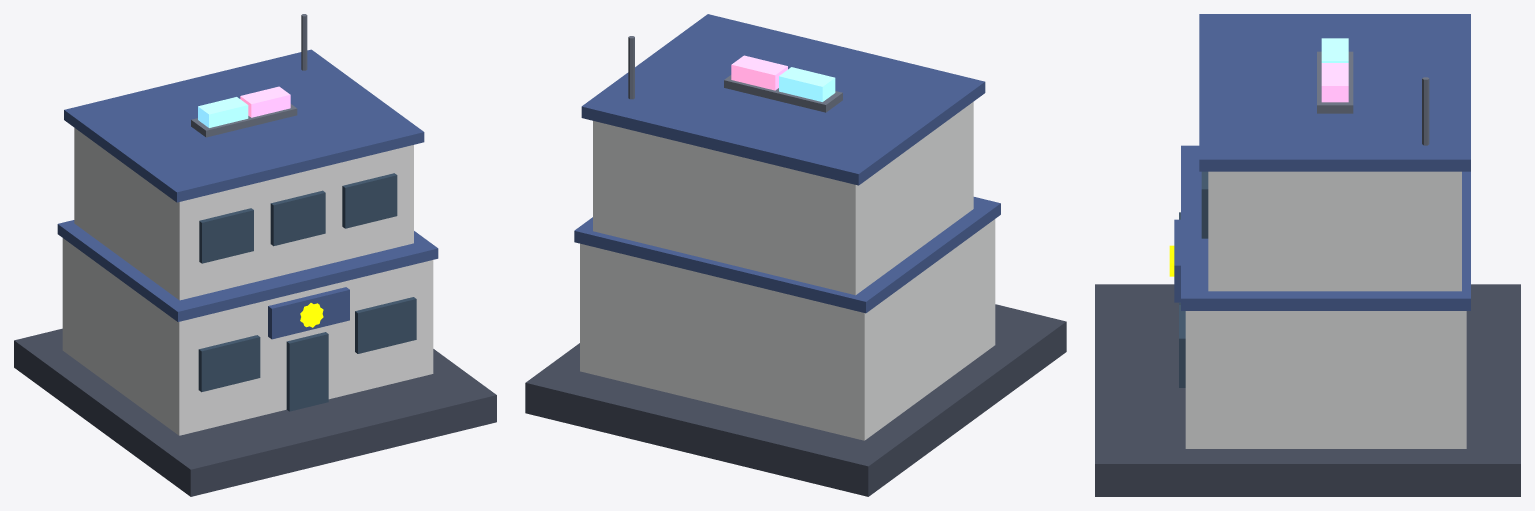
The model's file is police_station.glb.
The picture shows the model from 3 angles, left to right: view 1: azimuth 30°, elevation 25°; view 2: azimuth 150°, elevation 25°; view 3: azimuth 270°, elevation 25°; orthographic projection. The views are drawn at different scales.
Visible parts, largest first — view 1: GroundFloor, plinth, RoofTrim, UpperFloor, FloorTrim, Door, GroundWindow_-0.24, GroundWindow_0.24, UpperWindow_0.0, UpperWindow_0.22, BadgeSign, UpperWindow_-0.22 (+3 smaller); view 2: GroundFloor, UpperFloor, RoofTrim, plinth, FloorTrim, Beacon, BeaconRed, LightBarBase; view 3: plinth, RoofTrim, GroundFloor, UpperFloor, FloorTrim, BeaconRed, LightBarBase, Beacon, BadgeSign, GroundWindow_0.24, Antenna, UpperWindow_0.22.
Part boxes in pixels (<box>): GroundFloor: <box>62,238,433,435</box>; plinth: <box>14,328,496,496</box>; RoofTrim: <box>64,49,424,202</box>; UpperFloor: <box>74,128,413,300</box>; FloorTrim: <box>57,220,438,321</box>; Door: <box>286,332,328,411</box>; GroundWindow_-0.24: <box>198,335,260,392</box>; GroundWindow_0.24: <box>355,297,416,353</box>; UpperWindow_0.0: <box>270,190,325,246</box>; UpperWindow_0.22: <box>342,173,397,228</box>; BadgeSign: <box>268,287,349,339</box>; UpperWindow_-0.22: <box>199,208,253,263</box>; GroundFloor: <box>580,219,995,440</box>; UpperFloor: <box>593,102,973,295</box>; RoofTrim: <box>581,14,985,185</box>; plinth: <box>525,304,1066,496</box>; FloorTrim: <box>574,197,1000,313</box>; Beacon: <box>779,67,835,101</box>; BeaconRed: <box>731,55,787,90</box>; LightBarBase: <box>724,75,842,112</box>; plinth: <box>1095,284,1520,496</box>; RoofTrim: <box>1199,14,1470,171</box>; GroundFloor: <box>1185,311,1466,448</box>; UpperFloor: <box>1208,171,1461,291</box>; FloorTrim: <box>1181,145,1470,310</box>; BeaconRed: <box>1321,63,1348,102</box>; LightBarBase: <box>1317,51,1353,113</box>; Beacon: <box>1321,38,1348,62</box>; BadgeSign: <box>1174,219,1180,302</box>; GroundWindow_0.24: <box>1179,304,1185,387</box>; Antenna: <box>1422,77,1429,145</box>; UpperWindow_0.22: <box>1201,171,1208,238</box>.
Bounding box in the file's own units: 0.94 × 0.94 × 0.94.
